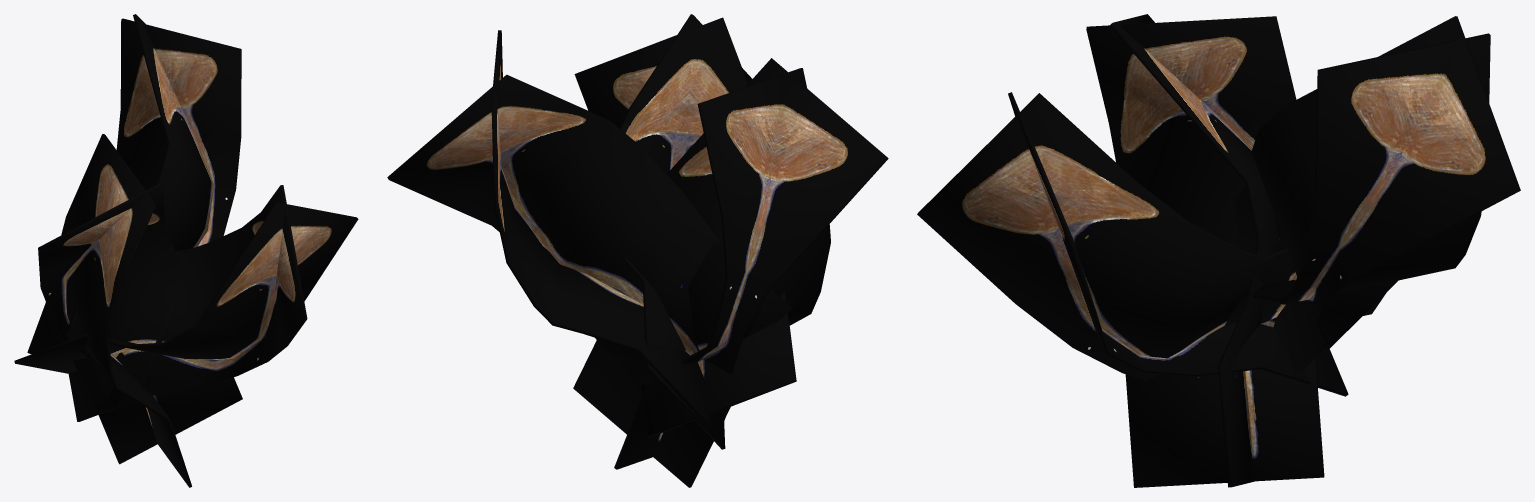
The model's file is BrownMushroom2.fbx.
The picture shows the model from 3 angles, left to right: view 1: azimuth 30°, elevation 25°; view 2: azimuth 150°, elevation 25°; view 3: azimuth 270°, elevation 25°; orthographic projection. The views are drawn at different scales.
Parts seen in each view (by area): view 1: BrownMushroom2; view 2: BrownMushroom2; view 3: BrownMushroom2.
Boxes of the visible parts, left/top/right/bottom form: BrownMushroom2: left=14, top=14, right=358, bottom=487; BrownMushroom2: left=387, top=14, right=888, bottom=487; BrownMushroom2: left=917, top=14, right=1520, bottom=487.
Bounding box in the file's own units: 435 × 539 × 567.
Materials: 1 (1 with a texture image).
